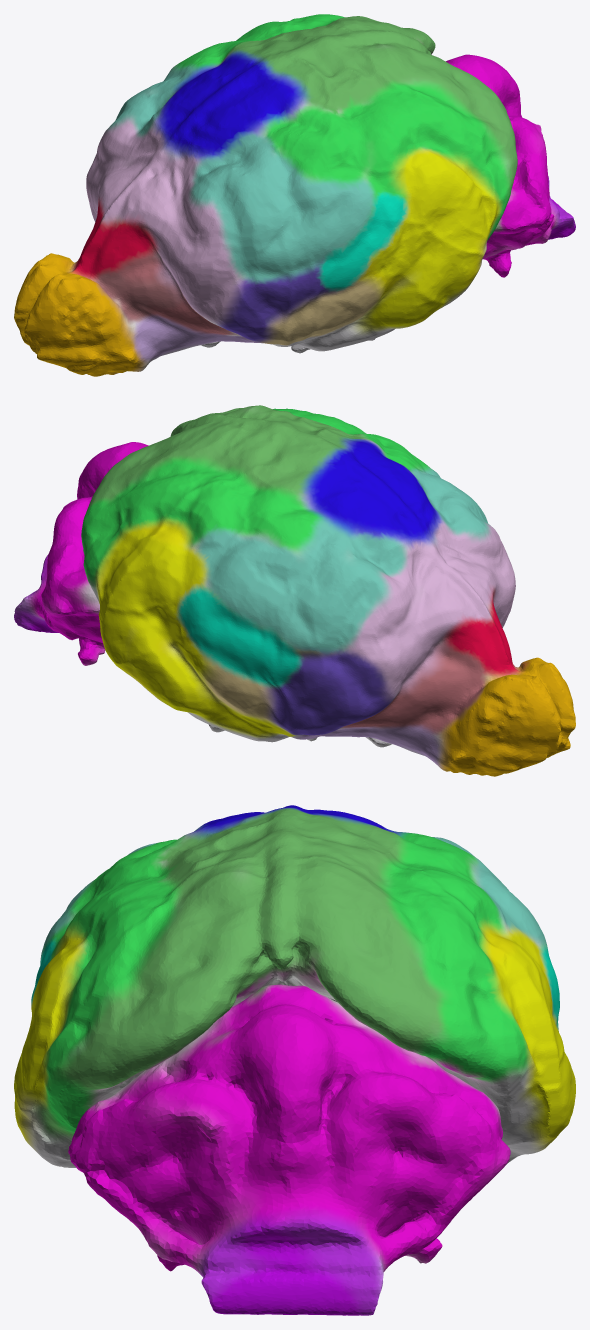
The model's file is procyon-endocast.glb.
3 views of the same model, one above another, from view 1: azimuth 30°, elevation 25°; view 2: azimuth 150°, elevation 25°; view 3: azimuth 270°, elevation 25° (orthographic). The views are drawn at different scales.
Visible parts, largest first — view 1: geometry_0; view 2: geometry_0; view 3: geometry_0.
Boxes of the visible parts, <box> form: geometry_0: <box>14,14,575,376</box>; geometry_0: <box>14,405,575,776</box>; geometry_0: <box>14,805,575,1315</box>.
Size of the model in its own units: 67.87 by 34.91 by 44.56.
